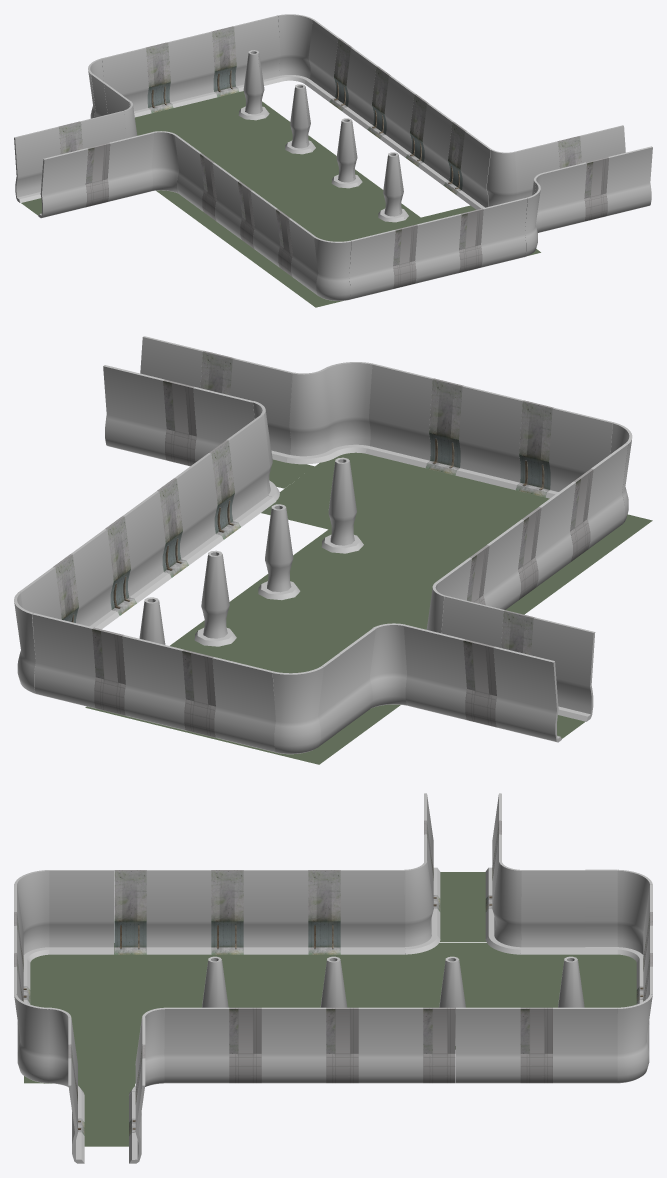
Rendered from LVL6.fbx.
3 views of the same model, one above another, from view 1: azimuth 30°, elevation 25°; view 2: azimuth 150°, elevation 25°; view 3: azimuth 270°, elevation 25° (orthographic). The views are drawn at different scales.
Visible parts, largest first — view 1: Sol, angle_interieur_2_3, angle_interieur_1, Tube_1_12, Tube_3_1, Tube_1_3, Tube_1_4, Tube_3, angle_exterieur_5, angle_exterieur_4, Tube_1_42, Tube_1_1 (+60 smaller); view 2: Sol, angle_interieur_5, angle_interieur, angle_exterieur_8, Tube_1_42, Tube_1_49, Tube_1_50, Tube_1_51, Tube_1_53, Tube_3_13, Tube_3_12, angle_exterieur (+62 smaller); view 3: Sol, Tube_1_46, Tube_1_2_2, Tube_1_19, Tube_1_18, Tube_3_4, Tube_1_17, Tube_1_8, Tube_1_9, Tube_3_6, Tube_1_10, Tube_1_11 (+31 smaller).
Part boxes in pixels (<box>): Sol: <box>21,91,540,307</box>; angle_interieur_2_3: <box>277,14,314,83</box>; angle_interieur_1: <box>314,237,351,300</box>; Tube_1_12: <box>14,132,41,202</box>; Tube_3_1: <box>211,26,239,97</box>; Tube_1_3: <box>167,37,195,107</box>; Tube_1_4: <box>189,31,216,102</box>; Tube_3: <box>145,42,173,113</box>; angle_exterieur_5: <box>151,131,178,193</box>; angle_exterieur_4: <box>486,149,517,206</box>; Tube_1_42: <box>38,153,66,218</box>; Tube_1_1: <box>255,15,282,85</box>; Sol: <box>85,452,652,764</box>; angle_interieur_5: <box>323,362,373,456</box>; angle_interieur: <box>272,666,323,754</box>; angle_exterieur_8: <box>286,369,337,464</box>; Tube_1_42: <box>558,624,595,721</box>; Tube_1_49: <box>485,393,523,490</box>; Tube_1_50: <box>455,385,493,482</box>; Tube_1_51: <box>395,371,433,467</box>; Tube_1_53: <box>365,364,403,460</box>; Tube_3_13: <box>425,378,463,475</box>; Tube_3_12: <box>515,400,553,497</box>; angle_exterieur: <box>369,623,406,708</box>; Sol: <box>24,872,636,1146</box>; Tube_1_46: <box>552,870,585,954</box>; Tube_1_2_2: <box>585,869,617,954</box>; Tube_1_19: <box>243,870,275,954</box>; Tube_1_18: <box>276,870,308,954</box>; Tube_3_4: <box>308,870,340,954</box>; Tube_1_17: <box>340,870,372,954</box>; Tube_1_8: <box>146,870,178,954</box>; Tube_1_9: <box>179,870,211,954</box>; Tube_3_6: <box>211,870,243,954</box>; Tube_1_10: <box>49,870,81,954</box>; Tube_1_11: <box>81,870,113,954</box>.
Bounding box in the file's own units: 6409 × 801 × 5924.
